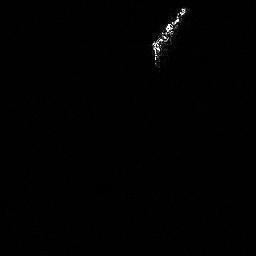ship: (145, 1, 190, 65)
